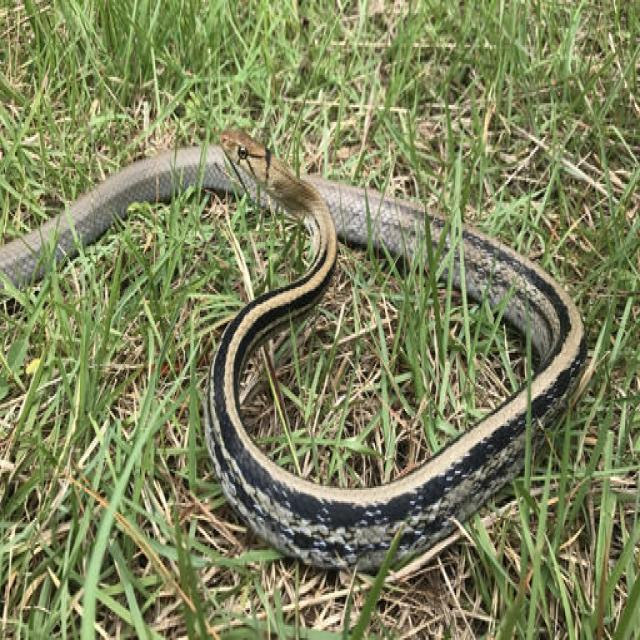Snake: (28, 125, 584, 574)
